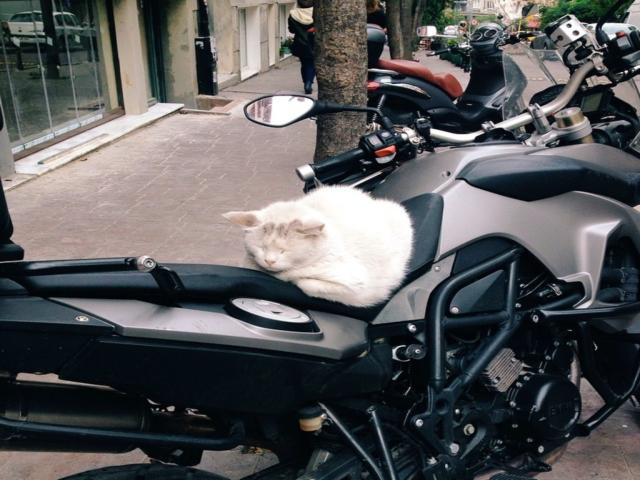Cat: (221, 182, 416, 308)
